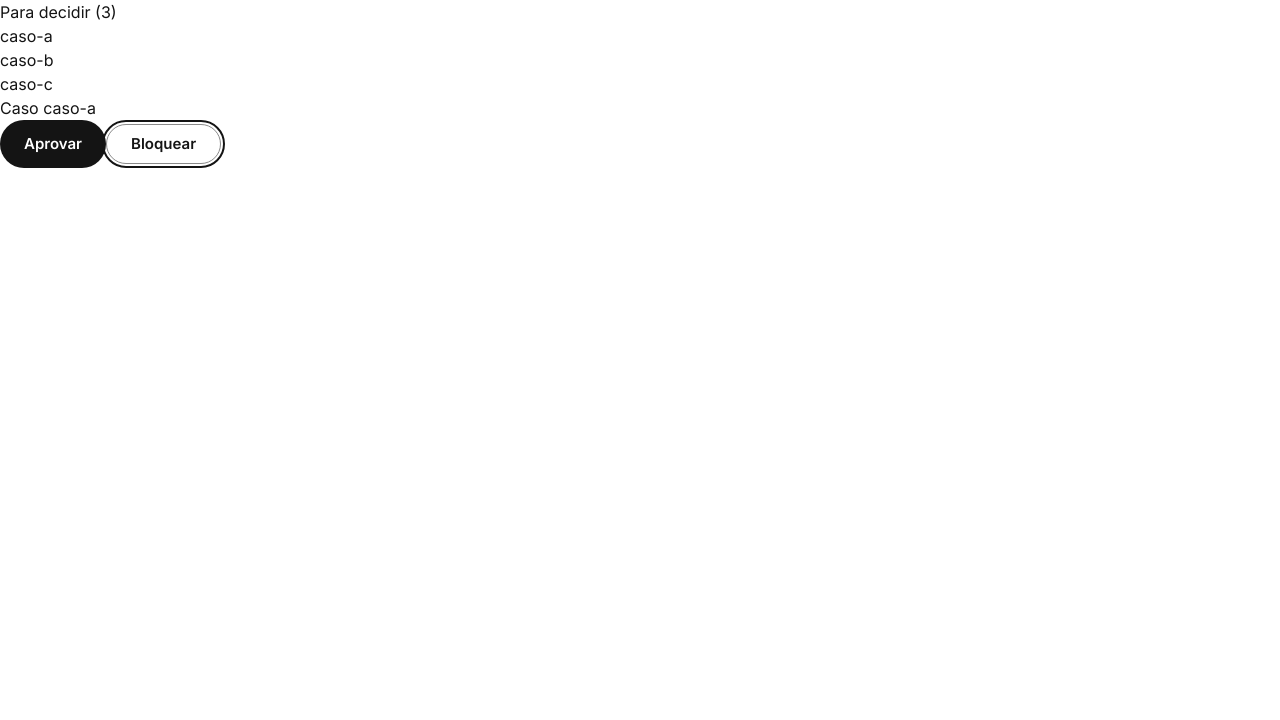
Test: Bloquear dialog (T107; AC 38; D10; F5, F6, F7) › 409: the dialog closes and T106's conflict state shows, announced in the detail's polite region, with focus on the case's heading (P6-003); no toast, no navigat
What coordinates should you click on to do the following:
click the button "Bloquear"
I would click on:
 (164, 144)
Its box is 106,124 -> 221,164.
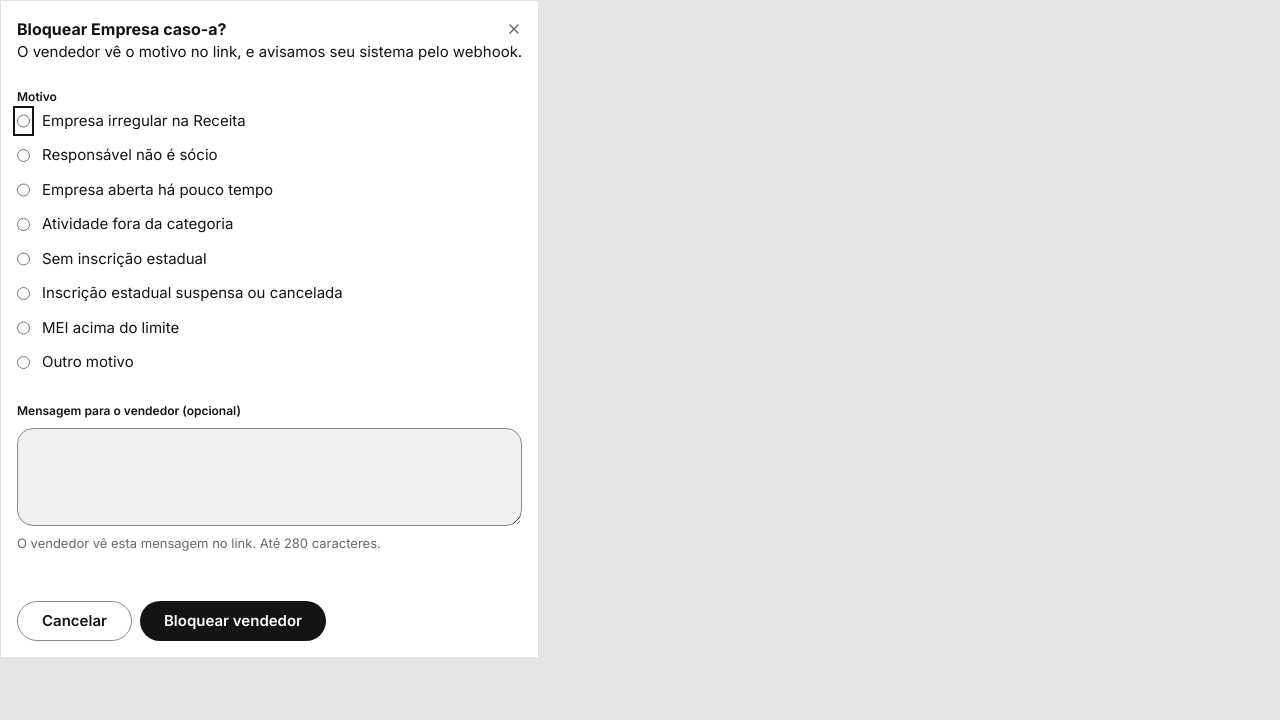
What coordinates should you click on to do the following:
click the radio button labelled "Outro motivo"
I would click on:
 (24, 362)
Its box is 17,351 -> 30,374.
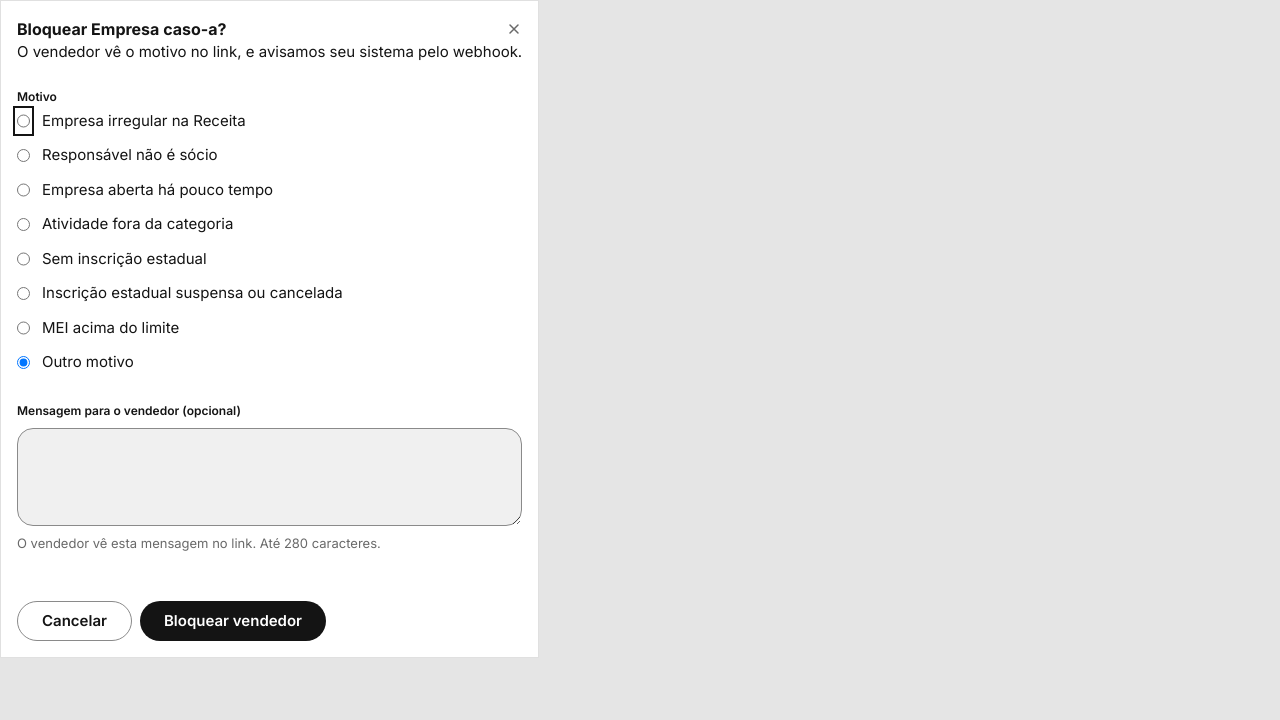
What coordinates should you click on to do the following:
click the button "Bloquear vendedor"
I would click on:
 (233, 621)
Its box is 140,601 -> 326,641.
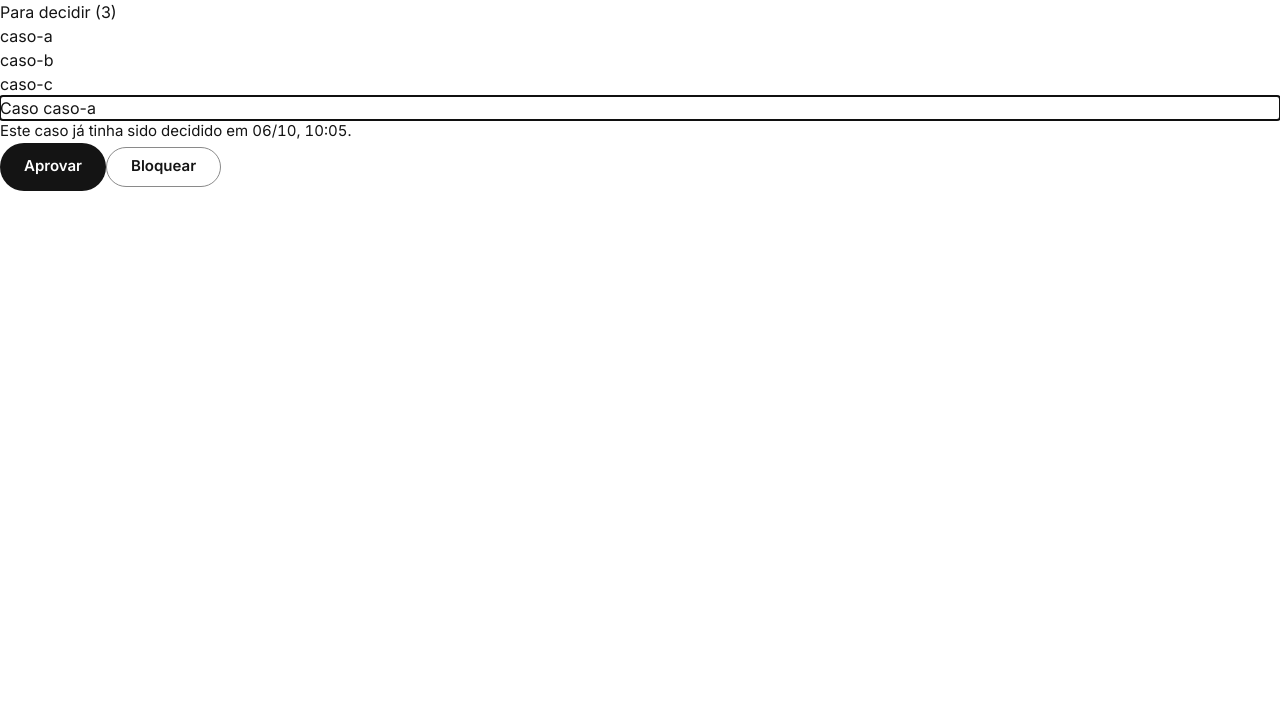
Result: the dialog is gone
